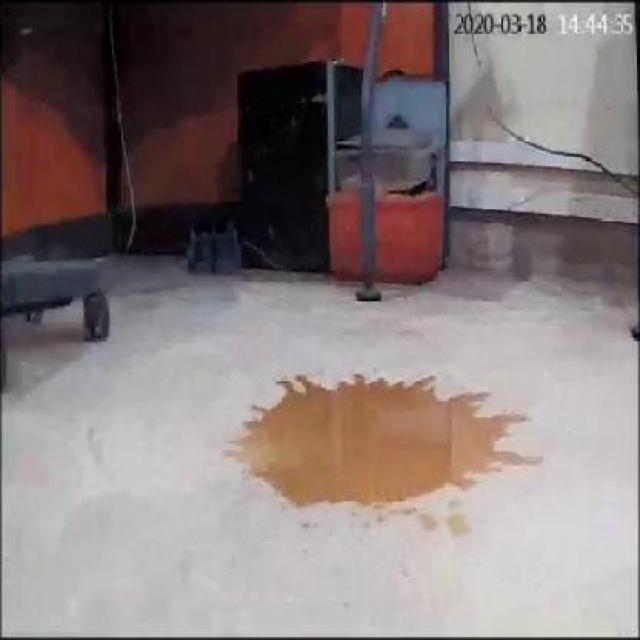spillage: (236, 375, 526, 510)
